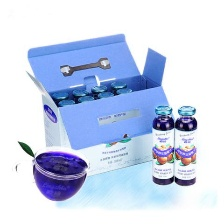bottle: (174, 102, 201, 187), (149, 100, 175, 185)
glass: (9, 143, 92, 207)
